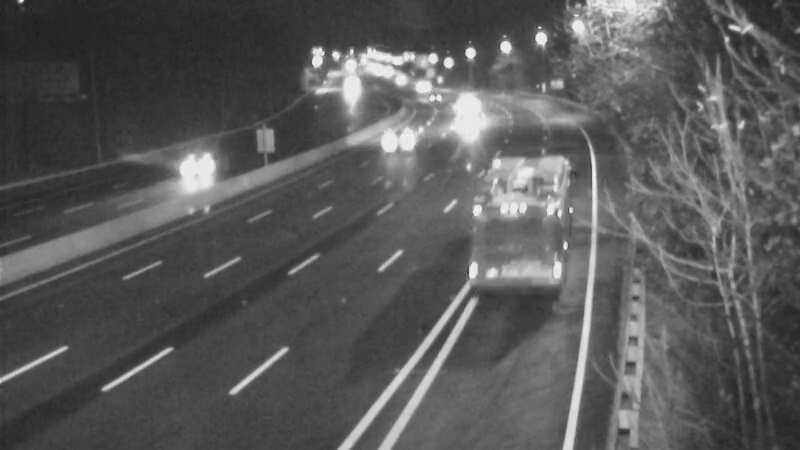vehicle: (477, 179, 557, 259), (161, 129, 241, 209), (377, 53, 427, 103), (392, 62, 442, 112), (408, 72, 458, 122), (438, 80, 488, 130), (440, 103, 490, 153), (379, 113, 429, 163), (323, 63, 373, 113)
